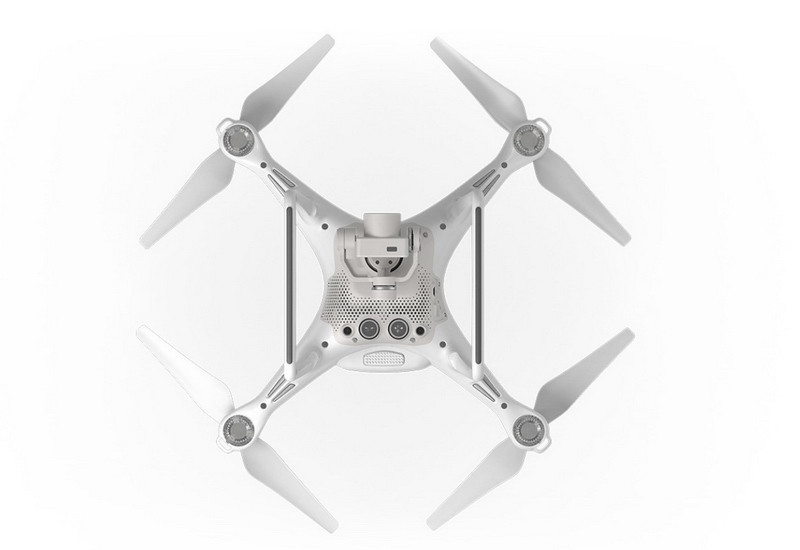drone: (134, 30, 639, 540)
